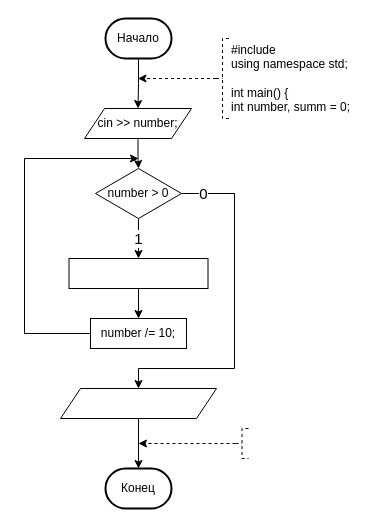
The diagram is 367 pixels wide and 526 high, and some of its shapes have lost their labels. Here are the shapes that lost their labels. From the top down, the centre of each, then its label:
At pixel 138 273: "summ += number % 10;".
At pixel 138 403: "cout << summ << endl;".
At pixel 241 443: "return 0;".
